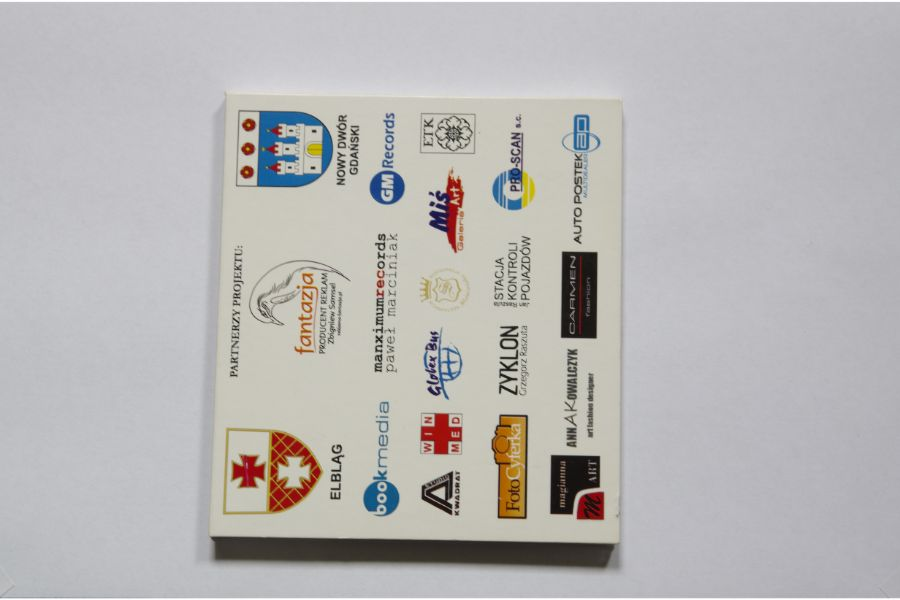album: (209, 91, 622, 548)
